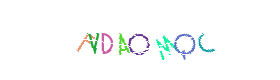A: (98, 0, 178, 80)
C: (144, 0, 224, 80)
D: (71, 0, 151, 80)
F: (45, 0, 125, 80)
M: (114, 0, 194, 80)
O: (99, 0, 179, 80)
Q: (137, 0, 217, 80)
V: (69, 0, 149, 80)
